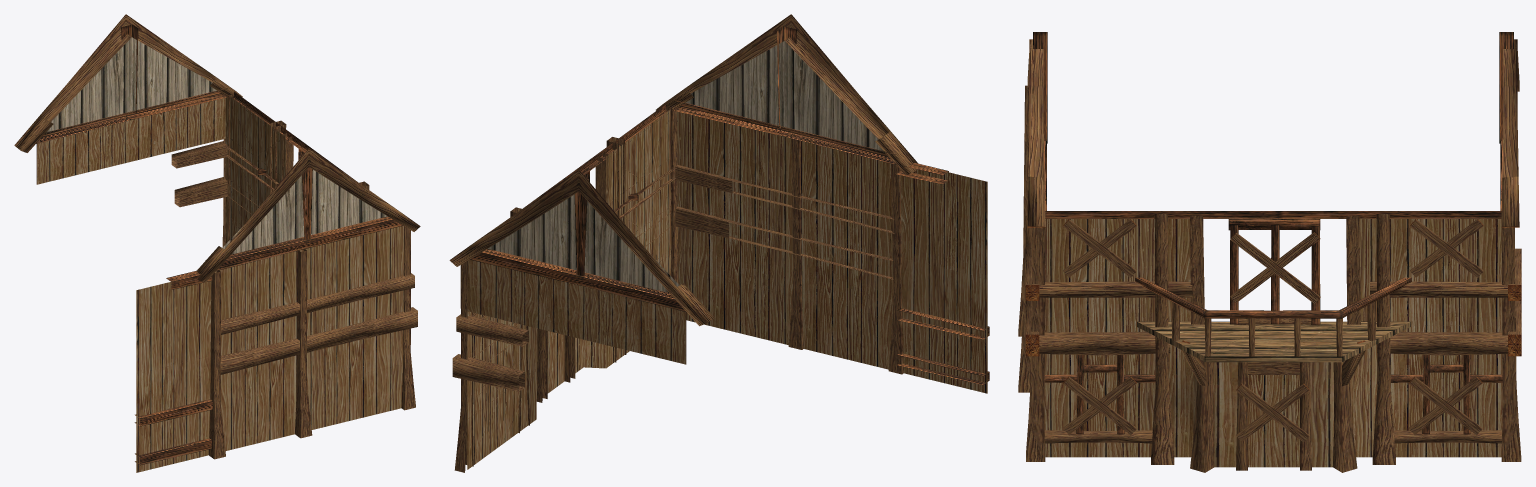
The model's file is LAKETOWN_EXTERIOR_PS_LT_EMPTYHOUSE97__GX.fbx.
3 views of the same model, side by side, from view 1: azimuth 30°, elevation 25°; view 2: azimuth 150°, elevation 25°; view 3: azimuth 270°, elevation 25° (orthographic). The views are drawn at different scales.
Parts seen in each view (by area): view 1: LAKETOWN_EXTERIOR_PS_LT_EMPTYHOUSE97__GX; view 2: LAKETOWN_EXTERIOR_PS_LT_EMPTYHOUSE97__GX; view 3: LAKETOWN_EXTERIOR_PS_LT_EMPTYHOUSE97__GX.
Part boxes in pixels (x1=…): LAKETOWN_EXTERIOR_PS_LT_EMPTYHOUSE97__GX: x1=14, y1=14, x2=420, y2=472; LAKETOWN_EXTERIOR_PS_LT_EMPTYHOUSE97__GX: x1=449, y1=14, x2=989, y2=472; LAKETOWN_EXTERIOR_PS_LT_EMPTYHOUSE97__GX: x1=1018, y1=32, x2=1521, y2=472.
Bounding box in the file's own units: 109243 × 91898 × 110439.
Materials: 8 (8 with a texture image).
